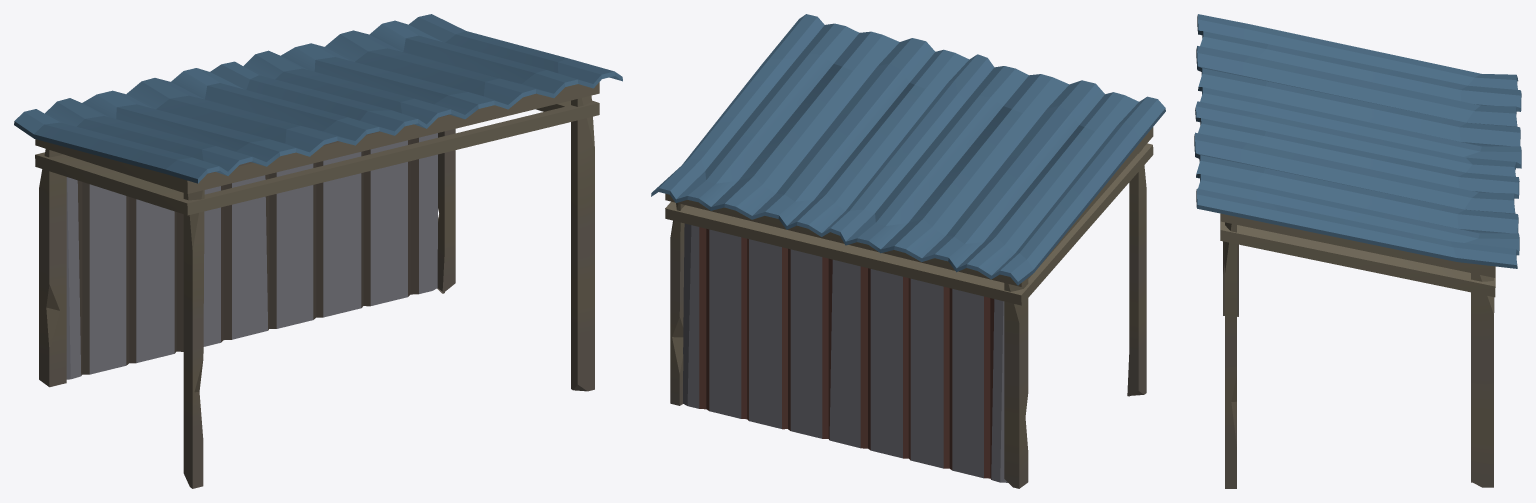
Rendered from Shelter.fbx.
3 views of the same model, side by side, from view 1: azimuth 30°, elevation 25°; view 2: azimuth 150°, elevation 25°; view 3: azimuth 270°, elevation 25° (orthographic). The views are drawn at different scales.
Visible parts, largest first — view 1: Shelter; view 2: Shelter; view 3: Shelter.
Boxes of the visible parts, <box> form: Shelter: <box>14,14,622,488</box>; Shelter: <box>651,14,1165,488</box>; Shelter: <box>1194,14,1521,488</box>.
Size of the model in its own units: 493 by 361 by 360.
